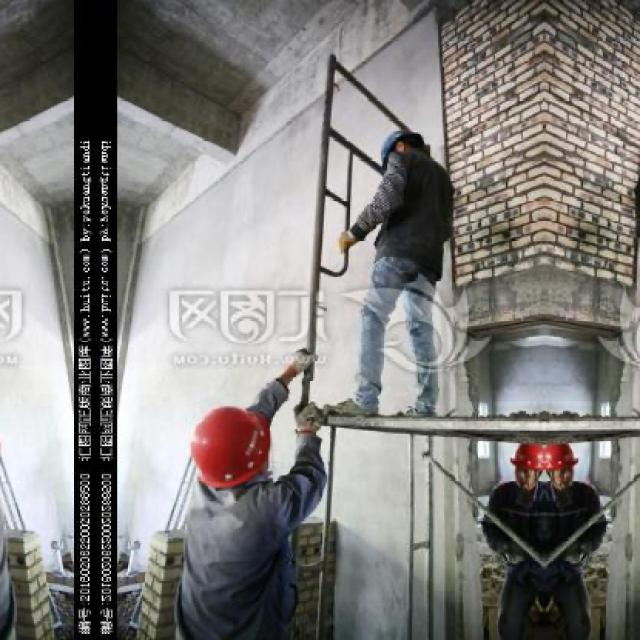con casco: (195, 385, 302, 486), (467, 435, 570, 518), (352, 122, 444, 196)
